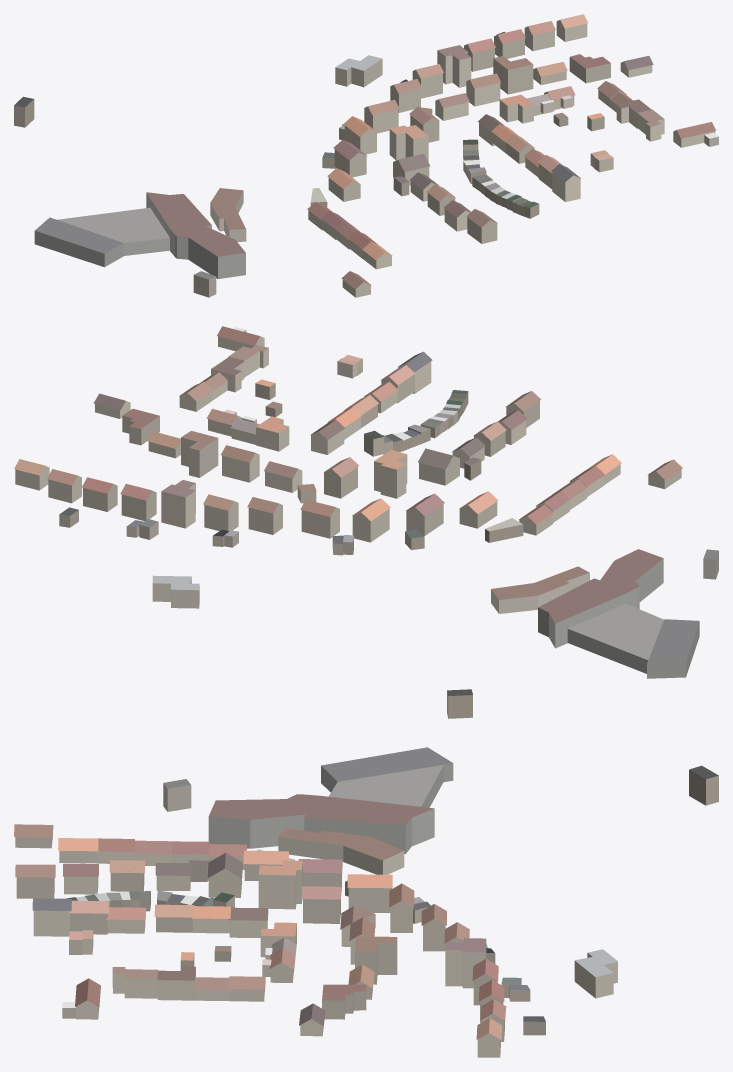
3 views of the same model, one above another, from view 1: azimuth 30°, elevation 25°; view 2: azimuth 150°, elevation 25°; view 3: azimuth 270°, elevation 25° (orthographic). The views are drawn at different scales.
Parts seen in each view (by area): view 1: tuile; view 2: tuile; view 3: tuile.
Part boxes in pixels (x1,y1,x2,y2): tuile: (14, 14, 718, 297); tuile: (14, 326, 718, 718); tuile: (14, 747, 718, 1057).
Bounding box in the file's own units: 255 × 36.62 × 210.
